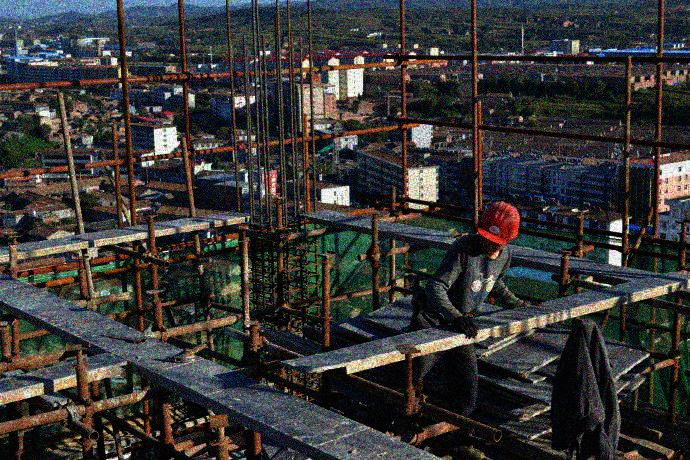helmet: (473, 201, 520, 256)
